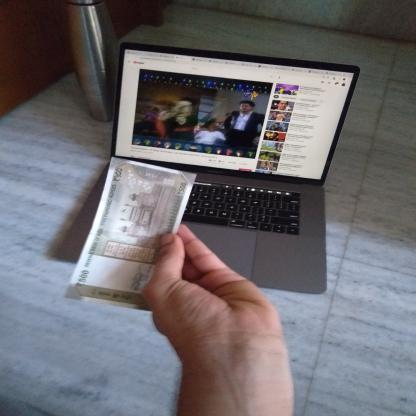New500Back: (74, 155, 189, 306)
